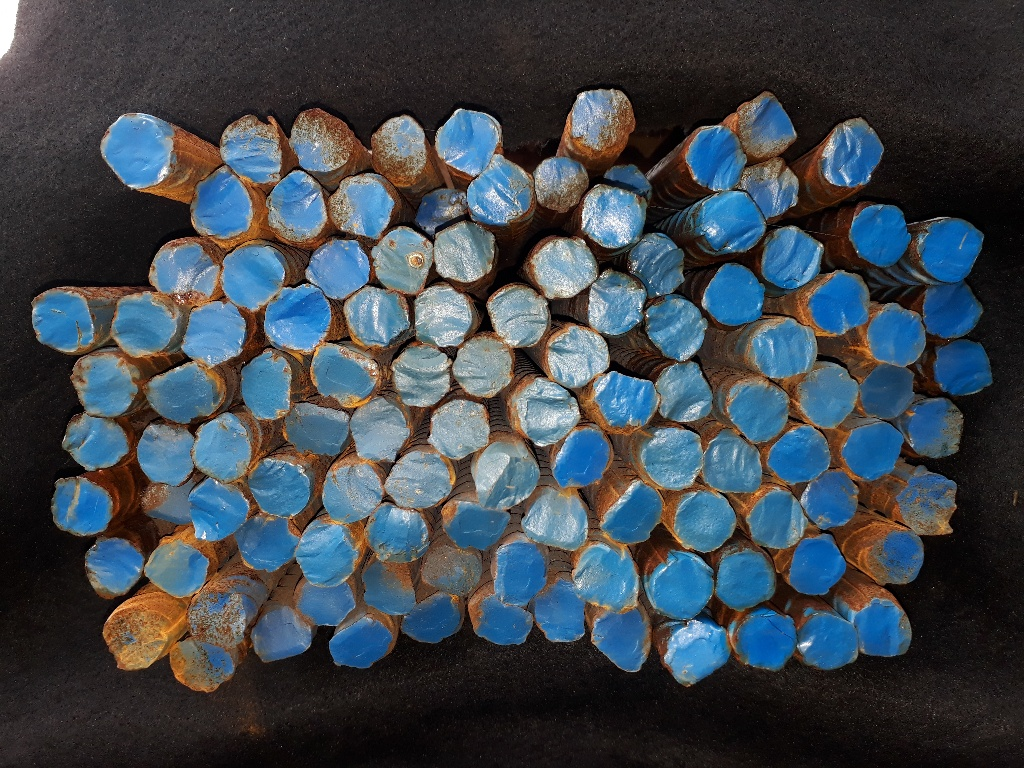dipstick: (102, 113, 172, 186), (146, 363, 221, 420), (648, 554, 715, 617), (72, 356, 137, 419), (666, 621, 730, 684), (918, 220, 984, 281), (823, 120, 882, 188), (470, 159, 532, 223), (222, 242, 283, 307), (84, 535, 144, 601), (573, 90, 634, 154), (732, 609, 796, 670), (740, 92, 799, 158), (247, 457, 313, 516), (221, 116, 282, 179), (143, 541, 210, 598), (676, 492, 737, 554), (519, 381, 580, 443), (372, 118, 427, 186), (150, 243, 218, 298), (729, 382, 790, 443), (290, 109, 352, 169), (268, 288, 330, 348), (478, 448, 540, 508), (702, 192, 765, 251), (268, 174, 325, 239), (312, 347, 378, 403), (32, 292, 93, 352), (330, 178, 392, 237), (296, 525, 356, 585), (51, 479, 112, 538), (853, 203, 909, 267), (112, 299, 177, 354), (191, 176, 251, 235), (789, 537, 850, 595), (797, 612, 859, 669), (181, 303, 243, 360), (437, 107, 493, 170), (687, 126, 743, 189), (581, 546, 637, 609), (194, 420, 250, 483), (812, 271, 867, 335), (377, 227, 431, 292), (534, 239, 593, 298), (763, 228, 823, 286), (705, 263, 762, 324), (103, 611, 165, 667), (189, 590, 247, 649), (643, 429, 703, 486), (584, 189, 645, 245), (869, 304, 925, 365), (803, 366, 858, 428), (414, 286, 471, 345), (718, 551, 775, 610), (553, 431, 612, 488), (190, 482, 247, 541), (648, 299, 703, 360), (429, 403, 490, 458), (137, 425, 194, 483), (528, 495, 587, 551), (598, 374, 658, 429), (347, 291, 408, 345), (926, 282, 984, 338), (604, 487, 662, 543), (435, 224, 494, 279), (322, 467, 381, 522), (659, 363, 713, 423), (633, 234, 685, 296), (490, 287, 545, 345), (900, 477, 958, 532), (802, 473, 862, 526), (365, 510, 426, 562), (251, 610, 312, 662), (494, 542, 544, 605), (387, 455, 450, 505), (550, 329, 606, 385), (936, 341, 992, 397), (353, 404, 409, 460), (395, 349, 450, 406), (243, 352, 289, 420), (61, 418, 126, 466), (592, 612, 647, 668), (758, 323, 815, 377), (444, 504, 510, 550), (312, 240, 368, 294), (859, 601, 912, 658), (771, 429, 829, 481), (591, 273, 642, 332), (168, 645, 233, 691), (454, 343, 509, 397), (242, 517, 296, 571), (744, 160, 797, 215), (859, 366, 915, 418), (846, 426, 903, 477), (752, 495, 806, 548), (469, 601, 534, 645), (288, 404, 345, 454), (534, 159, 587, 211), (705, 441, 759, 492), (537, 586, 584, 644), (331, 621, 390, 667), (911, 402, 962, 455), (362, 563, 415, 613), (406, 596, 461, 644), (424, 548, 480, 595), (876, 532, 925, 583), (296, 585, 354, 628), (416, 191, 467, 227), (140, 485, 187, 521), (607, 165, 653, 195)
